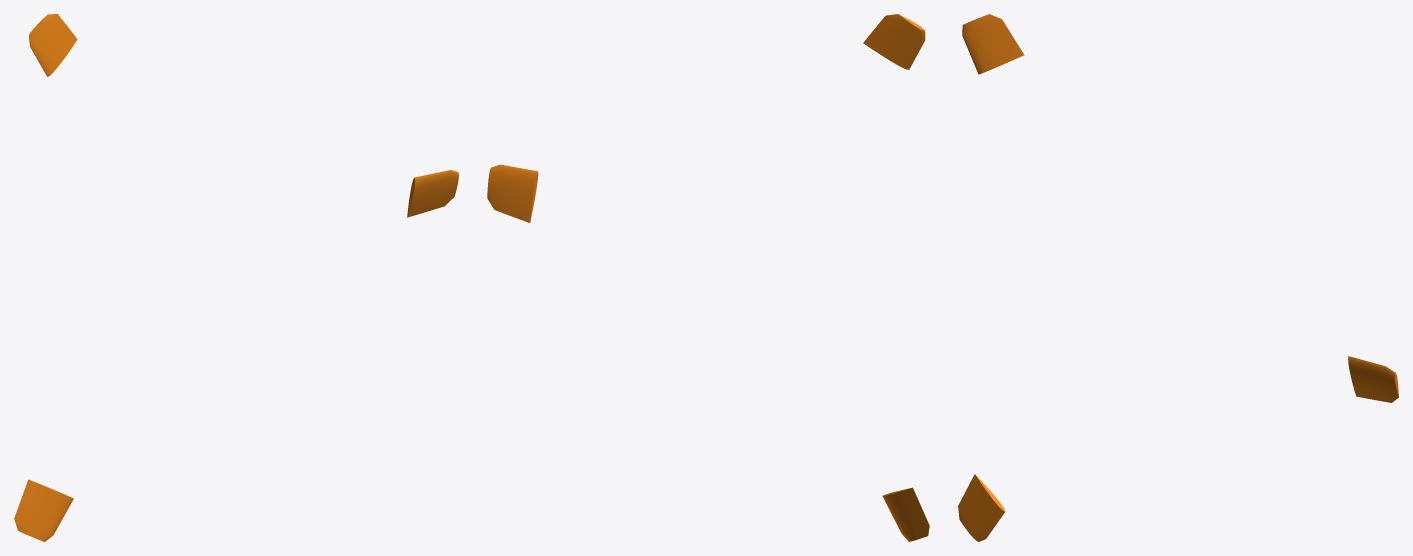
The model's file is front_right_prop_tips.obj.
3 views of the same model, side by side, from view 1: azimuth 30°, elevation 25°; view 2: azimuth 150°, elevation 25°; view 3: azimuth 330°, elevation 25° (orthographic).
Visible parts, largest first — view 1: front_right_prop_tips; view 2: front_right_prop_tips; view 3: front_right_prop_tips.
Boxes of the visible parts, bbox=[...] form: front_right_prop_tips: bbox=[14, 14, 458, 541]; front_right_prop_tips: bbox=[487, 14, 929, 541]; front_right_prop_tips: bbox=[958, 14, 1398, 541].
Bounding box in the file's own units: 0.1016 × 0.1156 × 0.00326.
